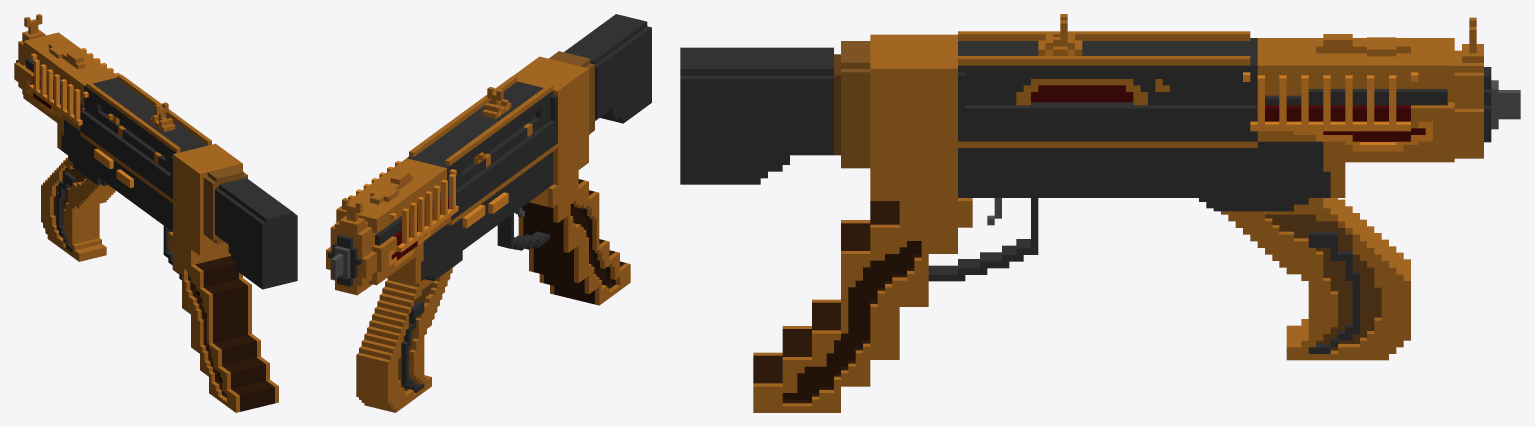
3 renders of one model, left to right at view 1: azimuth 30°, elevation 25°; view 2: azimuth 150°, elevation 25°; view 3: azimuth 270°, elevation 25°, orthographic. The views are drawn at different scales.
Visible parts, largest first — view 1: automatl; view 2: automatl; view 3: automatl.
Boxes of the visible parts, bbox=[...] form: automatl: bbox=[14, 14, 297, 412]; automatl: bbox=[326, 14, 651, 412]; automatl: bbox=[680, 14, 1520, 412].
Size of the model in its own units: 1.3 by 5.7 by 11.5.
1 material, 1 textured.
